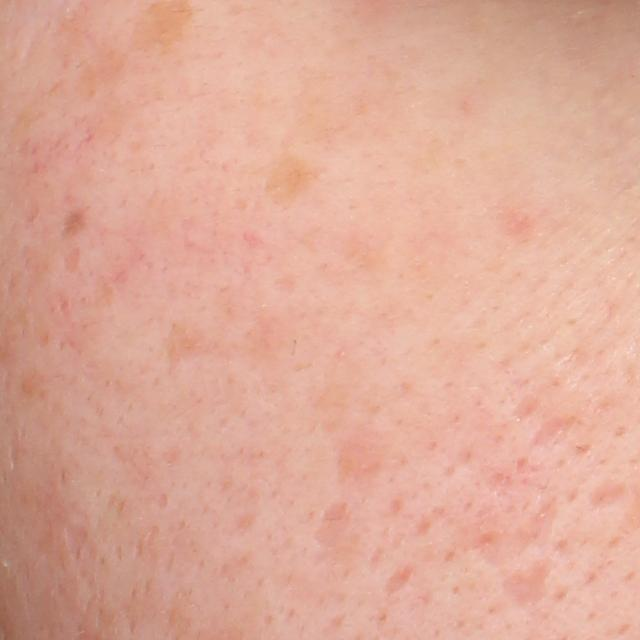atrophic_scar: (164, 320, 232, 378), (498, 558, 563, 608), (509, 496, 557, 556), (308, 500, 353, 552), (523, 422, 577, 451), (586, 481, 624, 510), (380, 563, 412, 597), (506, 393, 541, 424), (62, 245, 80, 278)
melasma: (251, 150, 342, 215)
